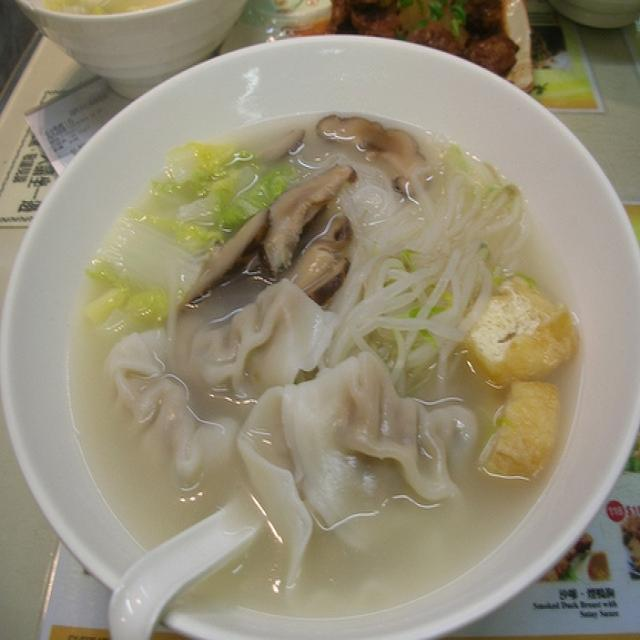汤锅炖物: (23, 31, 618, 628)
